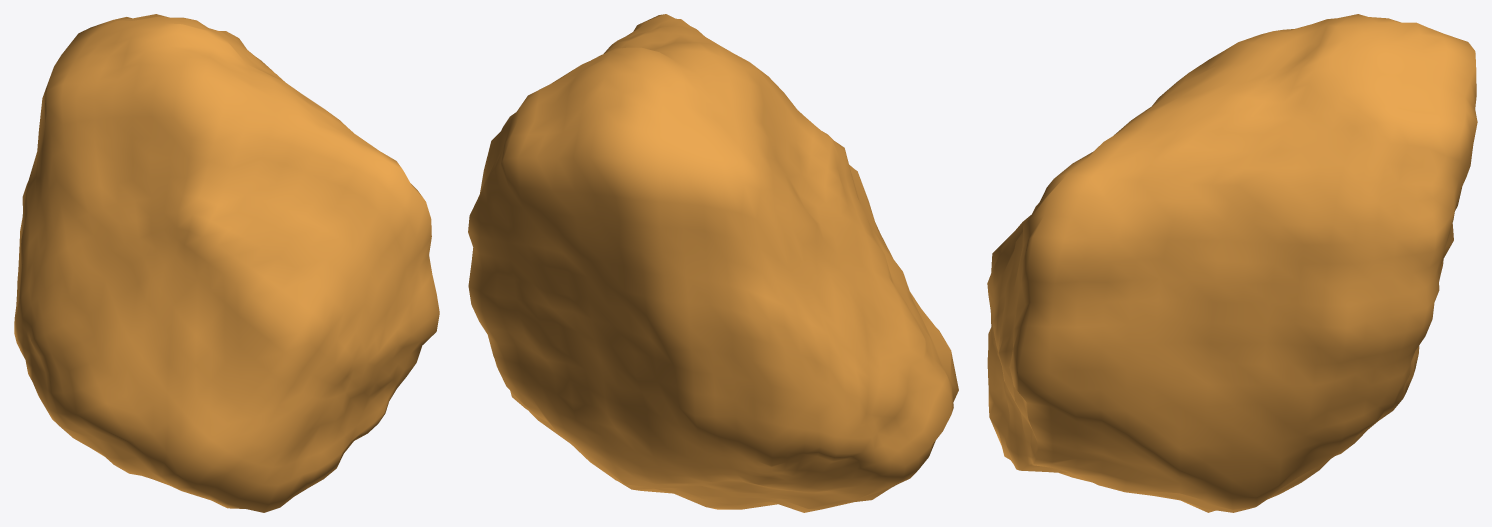
File: GoldMaG.glb
The picture shows the model from 3 angles, left to right: view 1: azimuth 30°, elevation 25°; view 2: azimuth 150°, elevation 25°; view 3: azimuth 270°, elevation 25°; orthographic projection. The views are drawn at different scales.
Parts seen in each view (by area): view 1: rock; view 2: rock; view 3: rock.
Part boxes in pixels (x1,y1,x2,y2): rock: (14, 14, 439, 512); rock: (468, 14, 958, 512); rock: (987, 14, 1477, 512).
Bounding box in the file's own units: 0.9427 × 1.17 × 1.07.
